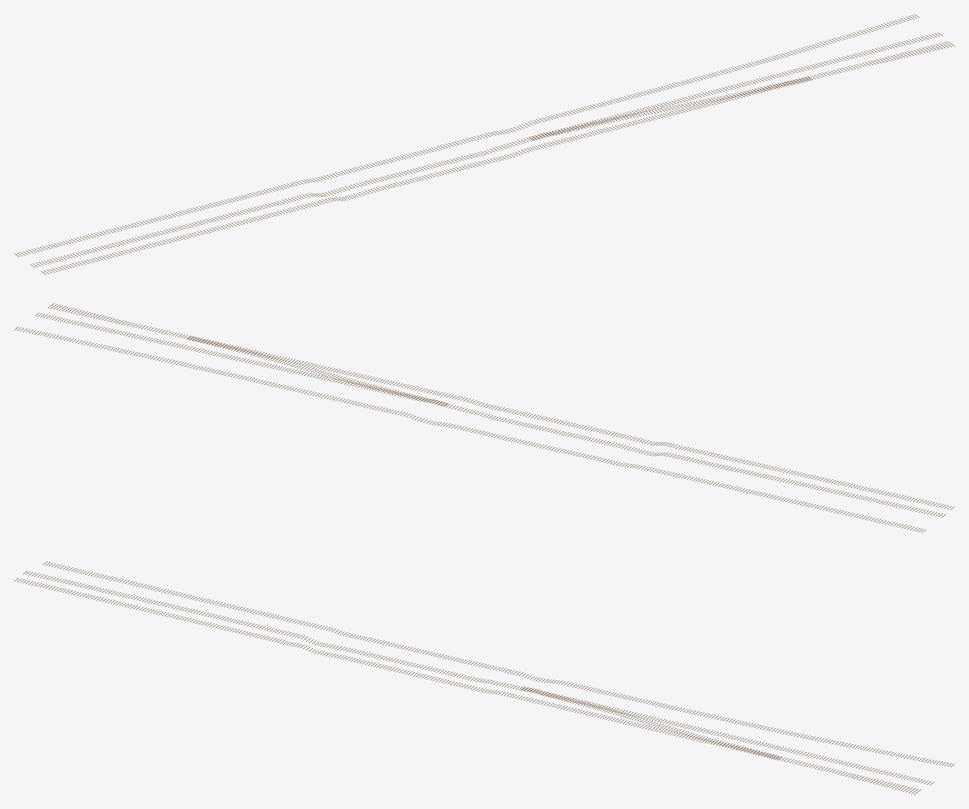
The model's file is c_1626_17822_rail_sleeper.glb.
3 views of the same model, one above another, from view 1: azimuth 30°, elevation 25°; view 2: azimuth 150°, elevation 25°; view 3: azimuth 330°, elevation 25° (orthographic). The views are drawn at different scales.
Parts seen in each view (by area): view 1: geometry_0; view 2: geometry_0; view 3: geometry_0.
Part boxes in pixels (x1,y1,x2,y2): geometry_0: (14, 14, 954, 274); geometry_0: (14, 303, 954, 532); geometry_0: (14, 561, 954, 794).
Bounding box in the file's own units: 256 × 1.94 × 25.6.
